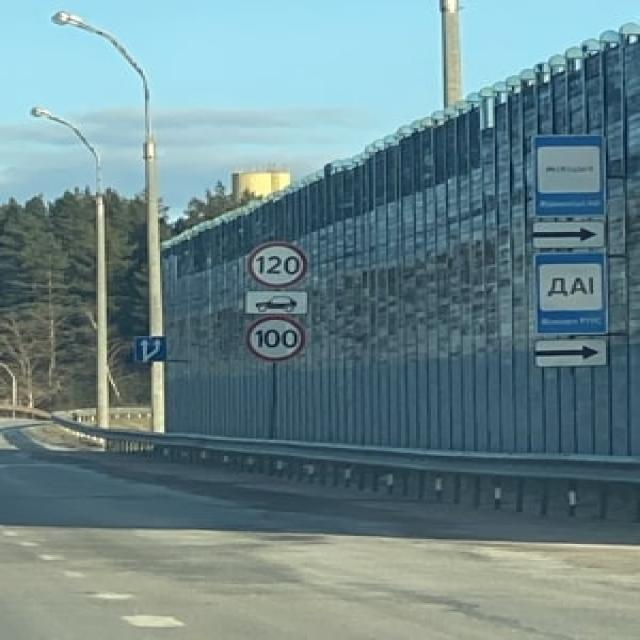Speed Limit -100-: (255, 329, 298, 349)
Speed Limit -120-: (255, 256, 301, 275)
